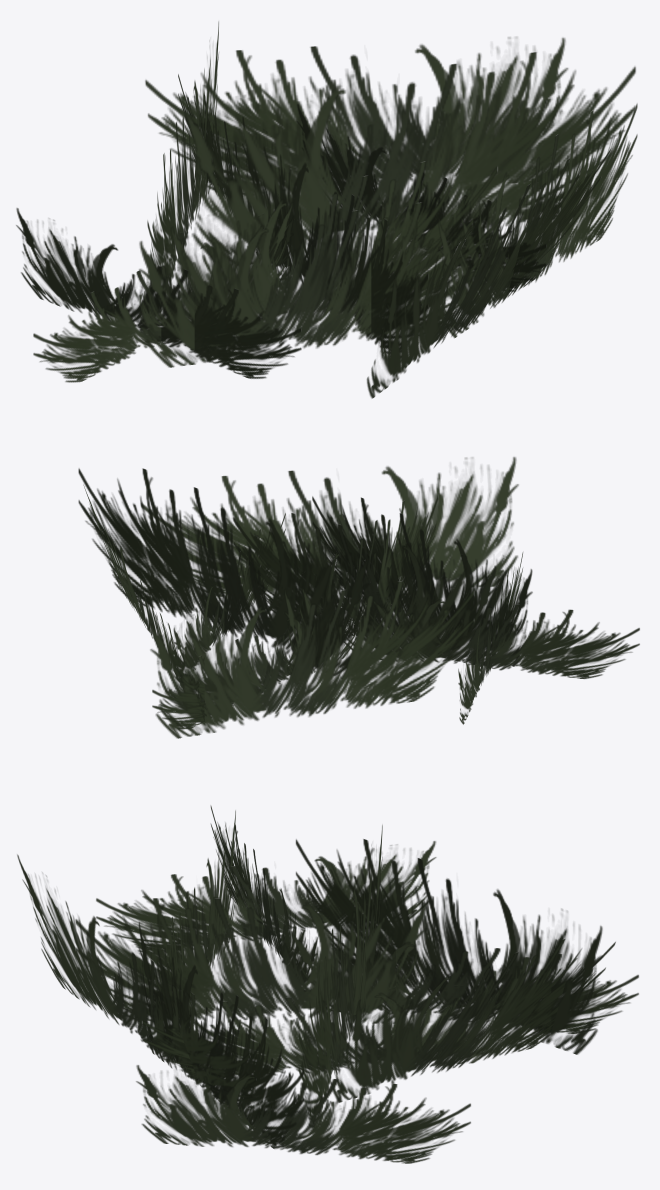
The model's file is grass01_03.glb.
3 renders of one model, top to bottom at view 1: azimuth 30°, elevation 25°; view 2: azimuth 150°, elevation 25°; view 3: azimuth 270°, elevation 25°, orthographic. The views are drawn at different scales.
Parts seen in each view (by area): view 1: grass01_cluster03; view 2: grass01_cluster03; view 3: grass01_cluster03.
Part boxes in pixels (box(x1,y1,x2,y2)): grass01_cluster03: box(16, 21, 637, 398); grass01_cluster03: box(78, 457, 639, 738); grass01_cluster03: box(17, 805, 639, 1163).
Size of the model in its own units: 3.96 by 1.11 by 3.5.
Materials: 1 (1 with a texture image).
